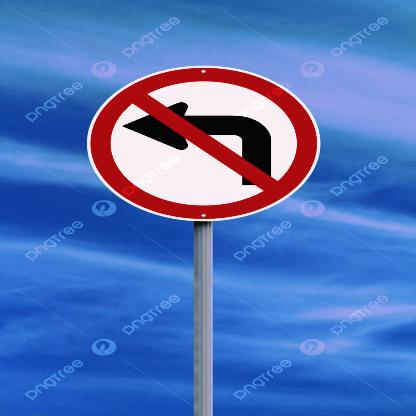No left turn: (84, 63, 324, 223)
